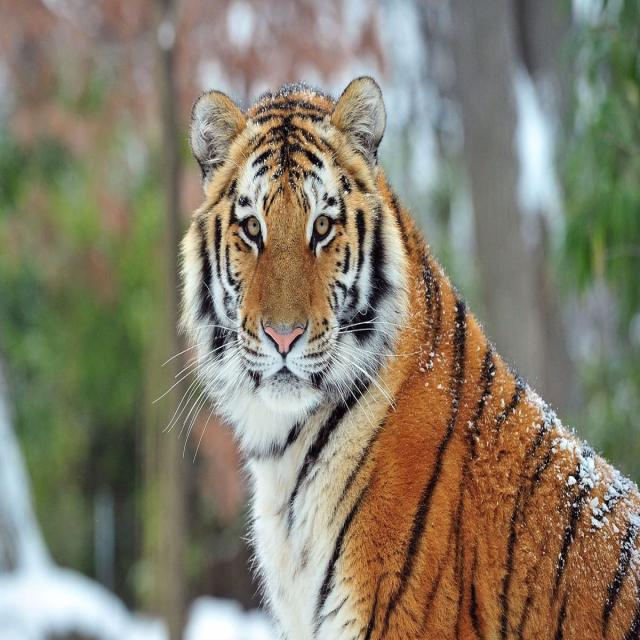Tiger: (152, 74, 639, 638)
